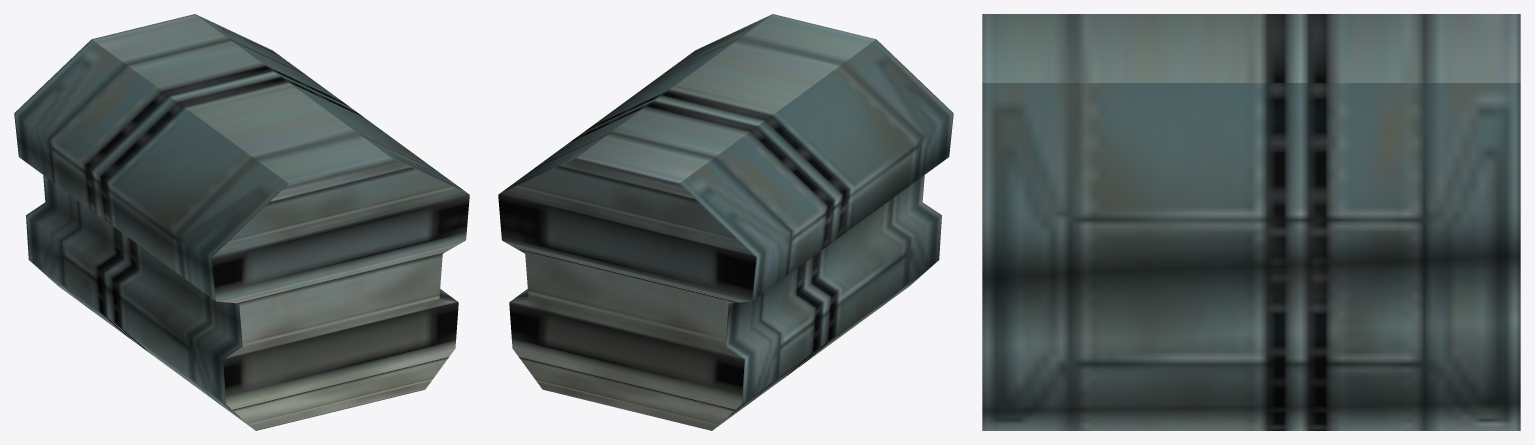
The model's file is utl666_static.obj.
3 views of the same model, side by side, from view 1: azimuth 30°, elevation 25°; view 2: azimuth 150°, elevation 25°; view 3: azimuth 270°, elevation 25° (orthographic). The views are drawn at different scales.
Parts seen in each view (by area): view 1: frm-root; view 2: frm-root; view 3: frm-root.
Part boxes in pixels (box(x1,y1,x2,y2)): frm-root: box(14, 14, 469, 430); frm-root: box(498, 14, 953, 430); frm-root: box(982, 14, 1520, 430).
Bounding box in the file's own units: 4.12 × 3.64 × 5.44.
